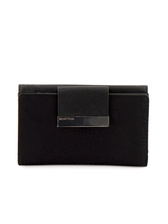other: (14, 81, 151, 169)
